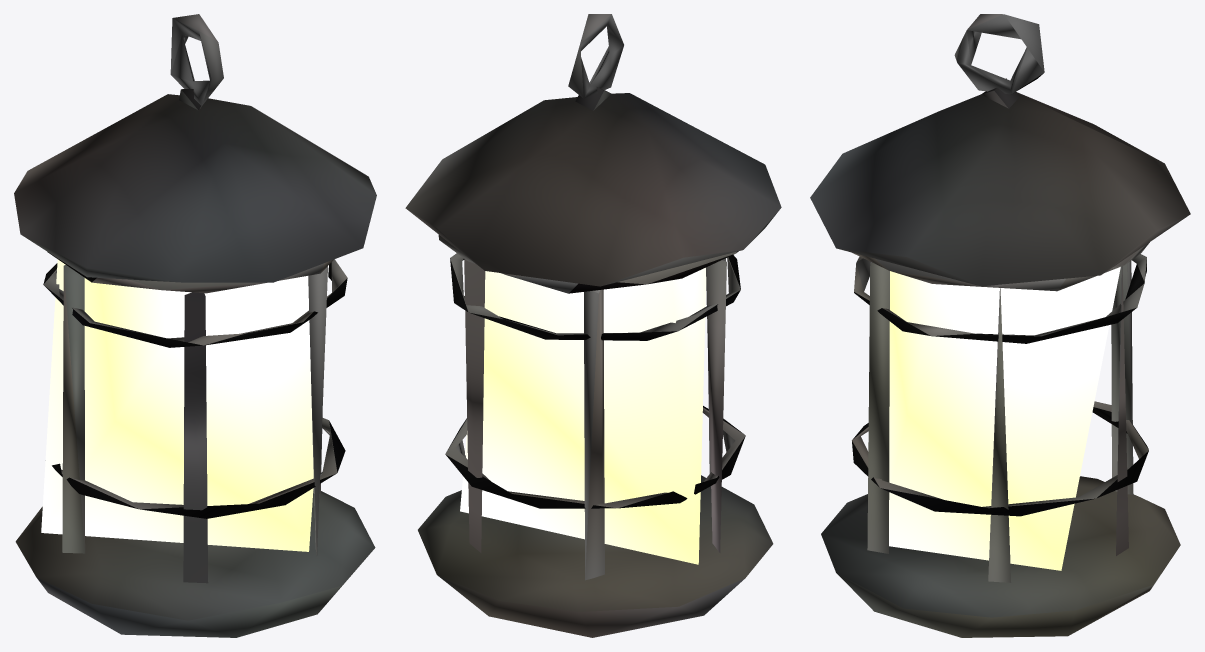
File: ship_lantern_far.glb
The picture shows the model from 3 angles, left to right: view 1: azimuth 30°, elevation 25°; view 2: azimuth 150°, elevation 25°; view 3: azimuth 270°, elevation 25°; orthographic projection.
Visible parts, largest first — view 1: ship_lantern_body, glass; view 2: ship_lantern_body, glass; view 3: ship_lantern_body, glass.
Part boxes in pixels (x1,y1,x2,y2): ship_lantern_body: (14,14,376,637); glass: (41,259,328,551); ship_lantern_body: (405,14,781,637); glass: (460,267,706,564); ship_lantern_body: (810,14,1190,637); glass: (889,267,1120,570).
Bounding box in the file's own units: 0.3986 × 0.6658 × 0.4007.
2 materials, 1 textured.
